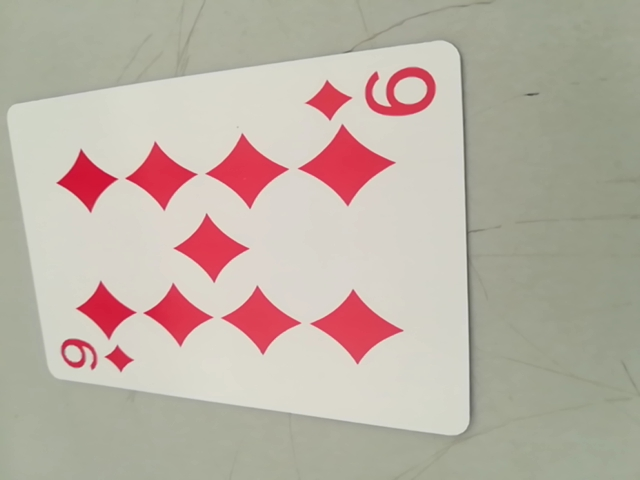fk 9: (309, 58, 445, 132), (51, 332, 138, 382)
